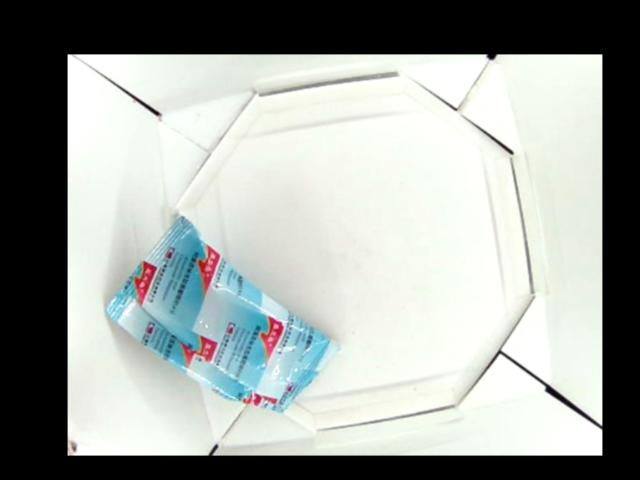Medicine: (103, 214, 341, 412)
